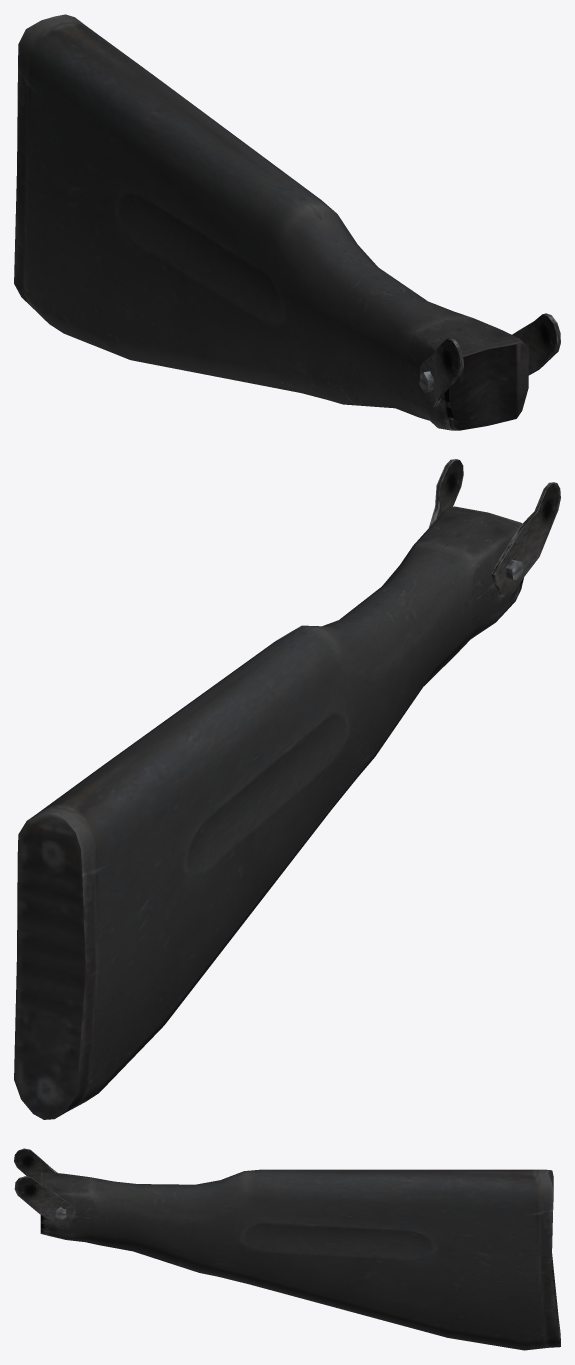
Rendered from butt2.obj.
3 renders of one model, top to bottom at view 1: azimuth 30°, elevation 25°; view 2: azimuth 150°, elevation 25°; view 3: azimuth 270°, elevation 25°, orthographic. The views are drawn at different scales.
Visible parts, largest first — view 1: wpn34_ak, wpn_ubludok; view 2: wpn34_ak, wpn_ubludok; view 3: wpn34_ak, wpn_ubludok.
Part boxes in pixels (x1=…): wpn34_ak: x1=14, y1=14, x2=528, y2=430; wpn_ubludok: x1=420, y1=313, x2=560, y2=407; wpn34_ak: x1=14, y1=506, x2=523, y2=1119; wpn_ubludok: x1=429, y1=459, x2=560, y2=598; wpn34_ak: x1=40, y1=1169, x2=560, y2=1350; wpn_ubludok: x1=14, y1=1148, x2=76, y2=1228.
Bounding box in the file's own units: 0.0349 × 0.1055 × 0.2805.
